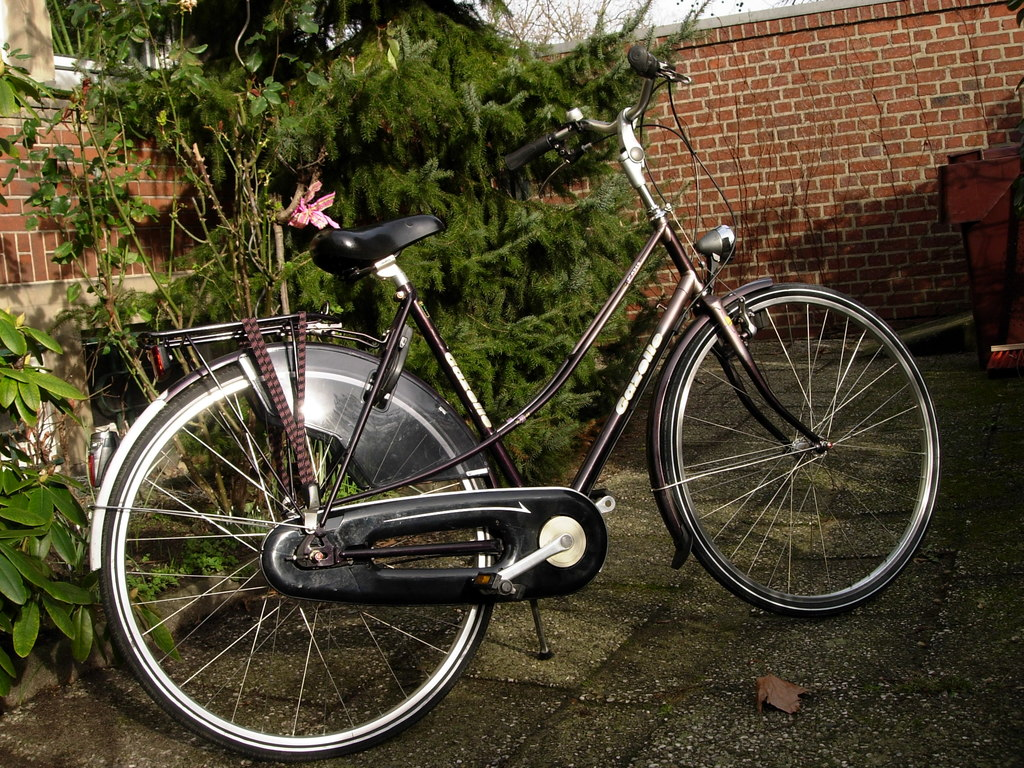Bicycle: (90, 44, 943, 757)
